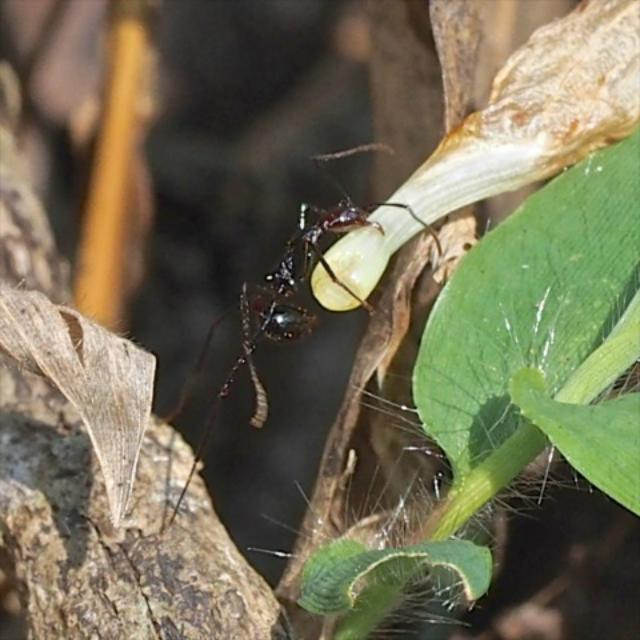Apheanogaster: (222, 172, 386, 364)
